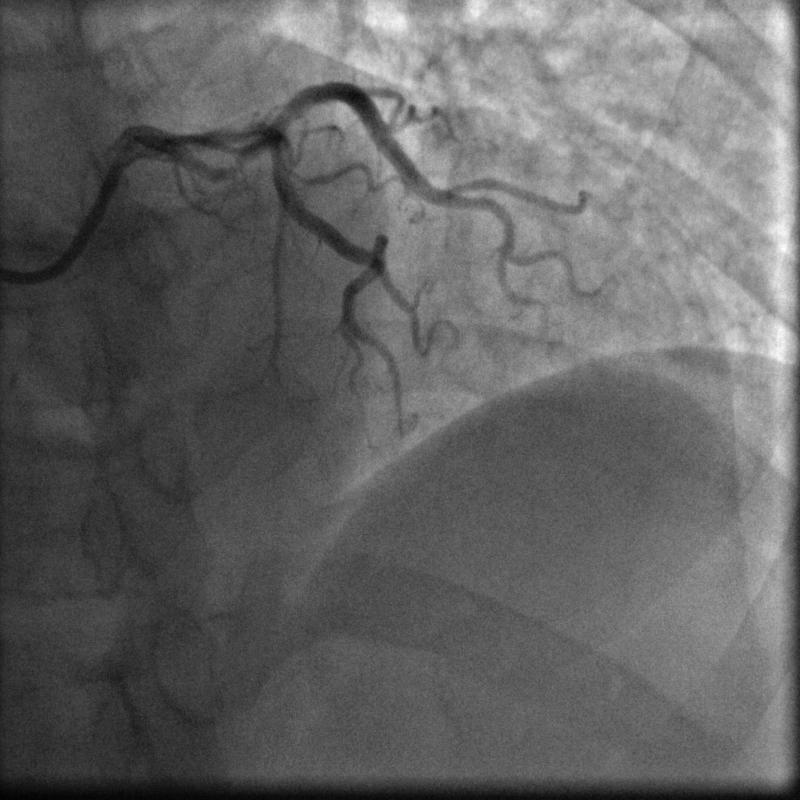Stenosis: (207, 147, 255, 176)
